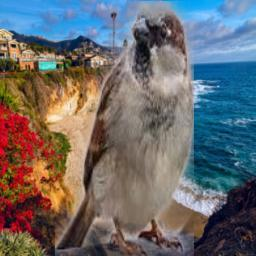Sparrow: (55, 1, 194, 256)
